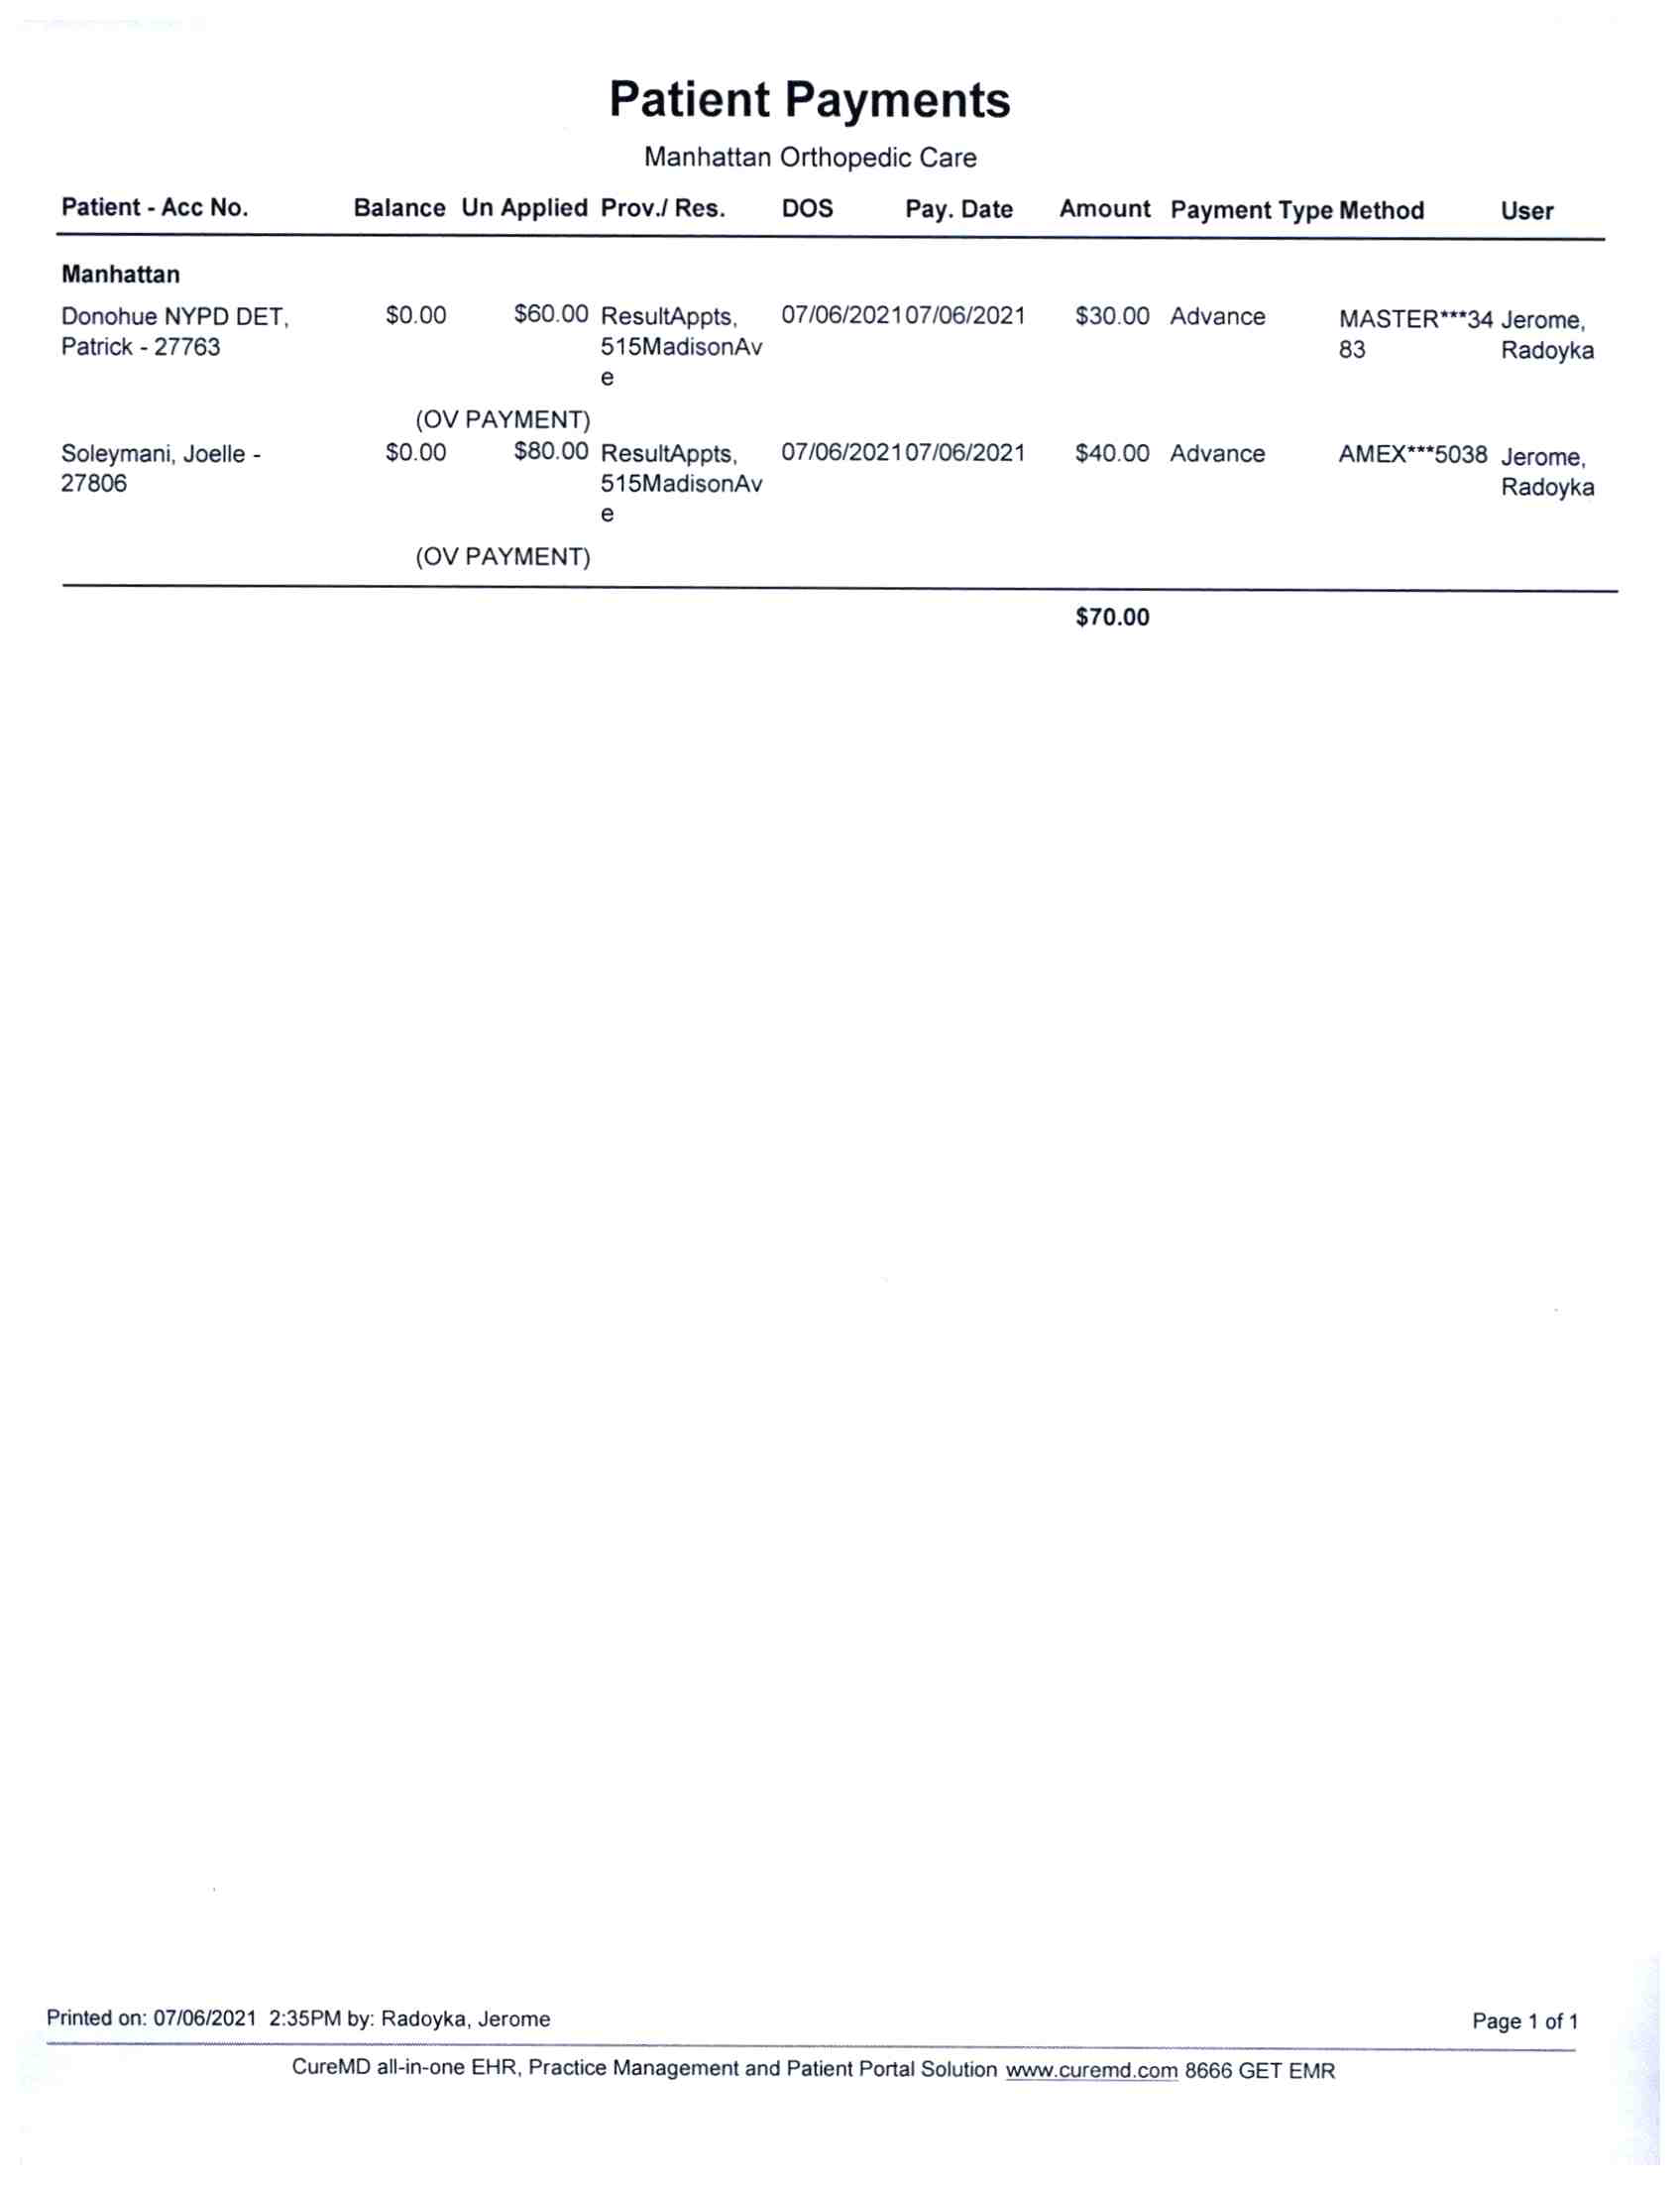table: (44, 176, 1636, 612)
